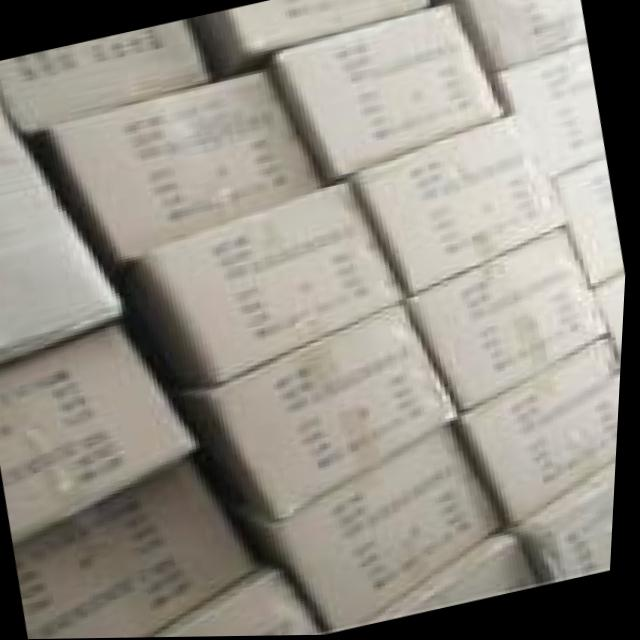box: (179, 304, 465, 522), (122, 181, 413, 387), (243, 426, 512, 634), (50, 69, 327, 264), (19, 458, 272, 639), (0, 323, 204, 545), (270, 3, 508, 185), (406, 226, 614, 417), (349, 113, 567, 295), (455, 336, 625, 529), (0, 109, 127, 365), (0, 21, 217, 136), (186, 0, 434, 79), (494, 39, 607, 179), (157, 567, 336, 638), (517, 465, 621, 586), (552, 158, 627, 287), (457, 0, 587, 72), (598, 274, 628, 358)
